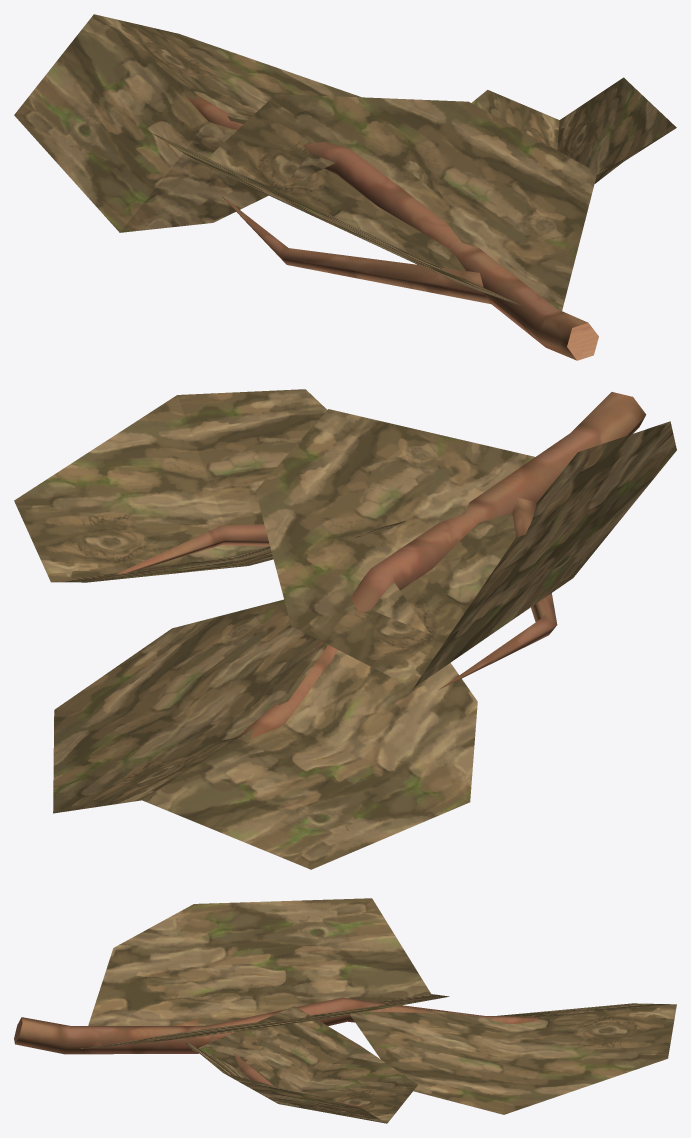
Rendered from P_FirBranch2.obj.
3 renders of one model, top to bottom at view 1: azimuth 30°, elevation 25°; view 2: azimuth 150°, elevation 25°; view 3: azimuth 270°, elevation 25°, orthographic. The views are drawn at different scales.
Bounding box in the file's own units: 1.65 × 0.5341 × 2.72.
